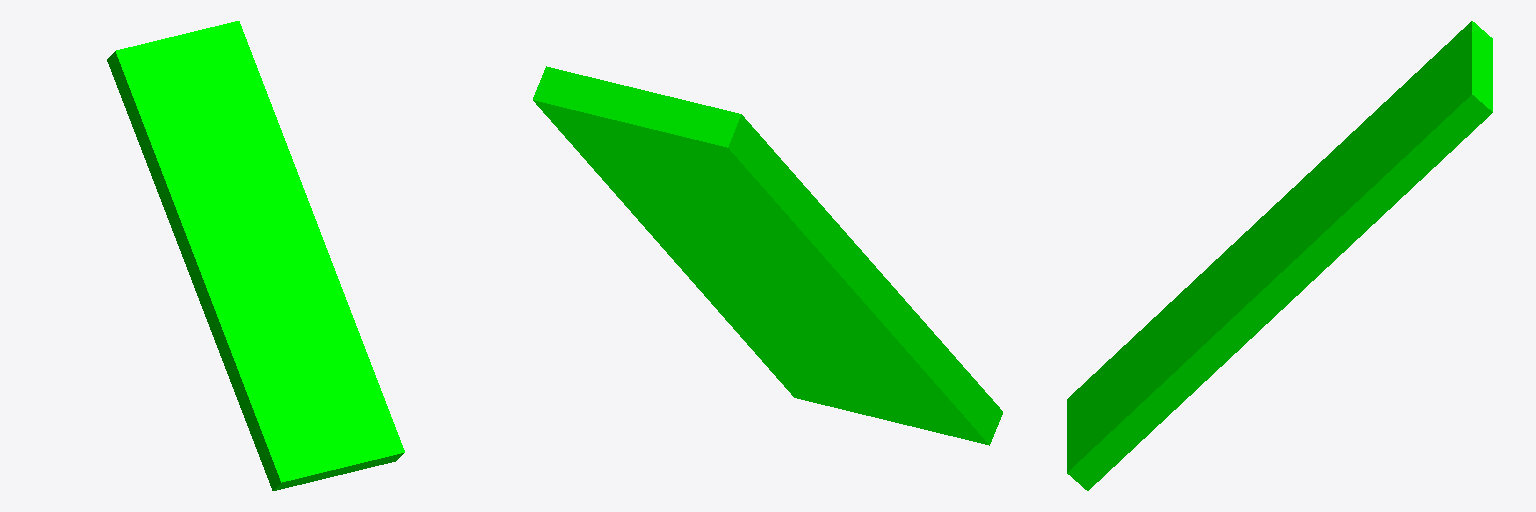
The robot description file, URDF, robot "roi_box":
<?xml version="1.0"?>

<robot name="roi_box">
  
  <material name="li">
    <color rgba="0.0 1.0 0.0 0.5"/>
  </material>

  <link name="base"/>

  <link name="roi_box">
    <!-- <collision>
       <origin xyz="0 0 .0" rpy="0 0 0"/>
      <geometry>
        <box size="1.2 0.1 1.8"/>
      </geometry>
    </collision> -->
    <visual>
      <origin xyz="0 0 .0" rpy="0 0 0"/>
      <geometry>
        <box size="0.3 0.05 1.0"/>
      </geometry>
      <material name="li"/>
    </visual>
  </link>

  <joint name="jroi_box" type="fixed">
    <origin rpy="-0.77 0 0" xyz="0 0.0 0.8"/>
    <parent link="base"/>
    <child link="roi_box"/>
  </joint>
</robot>

--- What the picture shows (computed from the rendered views, not written in the file) ---
3 views of the same robot in one strip: view 1: azimuth 30°, elevation 25°; view 2: azimuth 150°, elevation 25°; view 3: azimuth 270°, elevation 25° (orthographic).
Model roi_box with 2 links and 1 joints (1 fixed), rooted at base, posed all joints at 0.
Visible links, largest first — view 1: roi_box; view 2: roi_box; view 3: roi_box.
Link boxes in pixels (<box>): roi_box: <box>107,21,404,490</box>; roi_box: <box>533,66,1002,445</box>; roi_box: <box>1067,21,1492,490</box>.
Bounding box of the posed robot: 0.3 × 0.732 × 0.7527 m (x, y, z).
Geometry: primitives only (box / cylinder / sphere), no mesh files.
